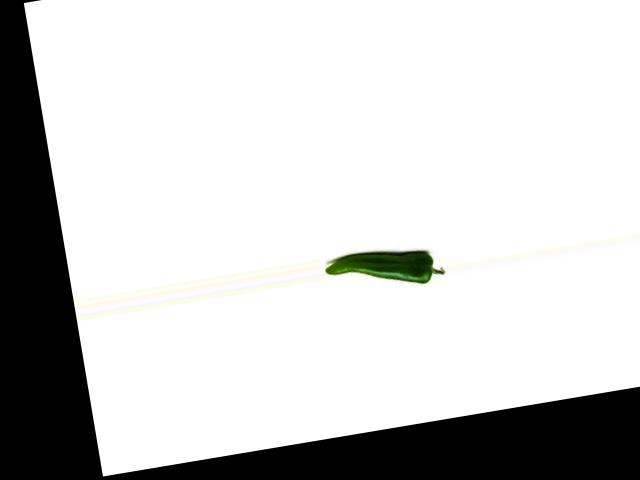bell_pepper: (322, 236, 450, 301)
